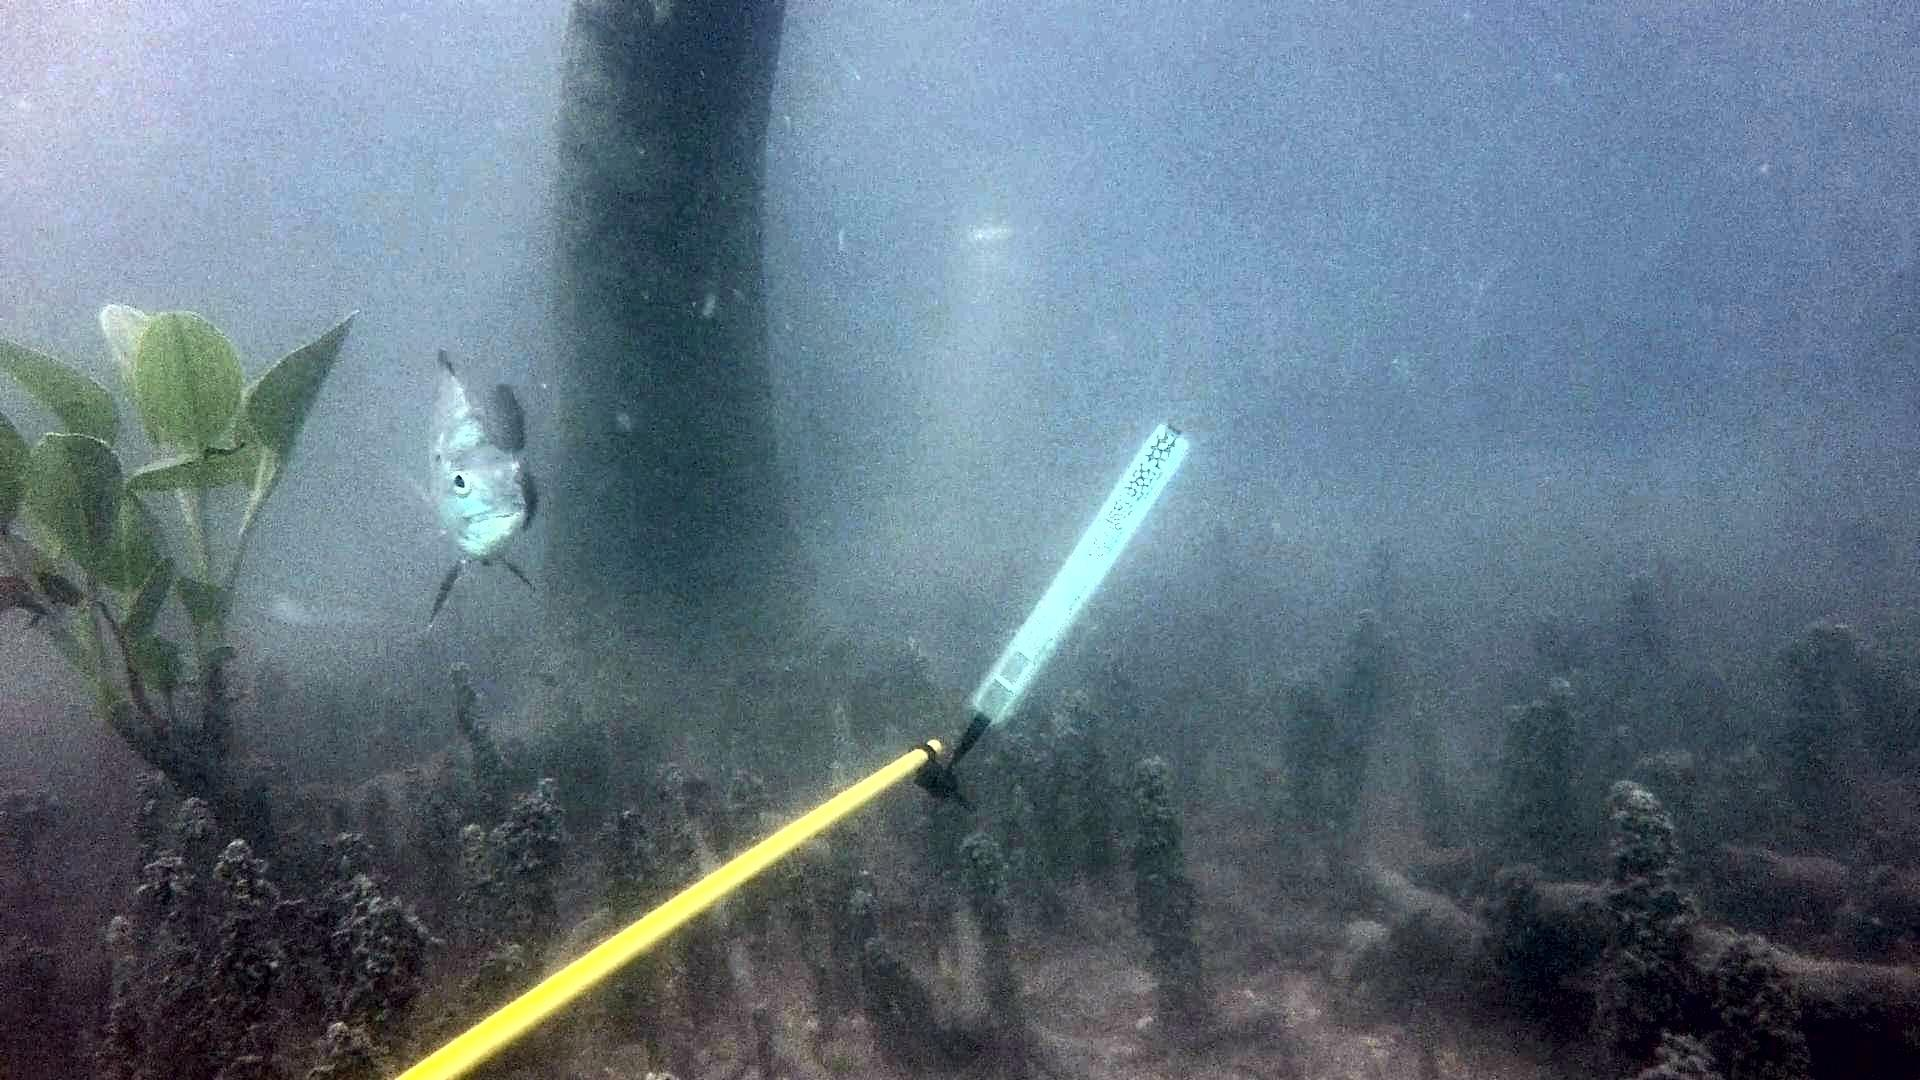acanthopagrus palmaris: (388, 335, 550, 624)
